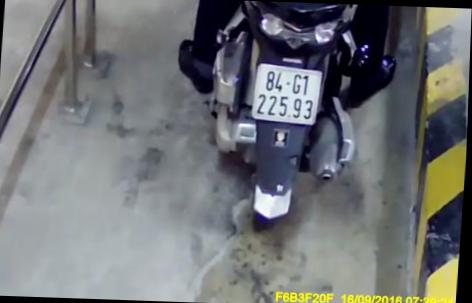LP: (251, 63, 325, 128)
